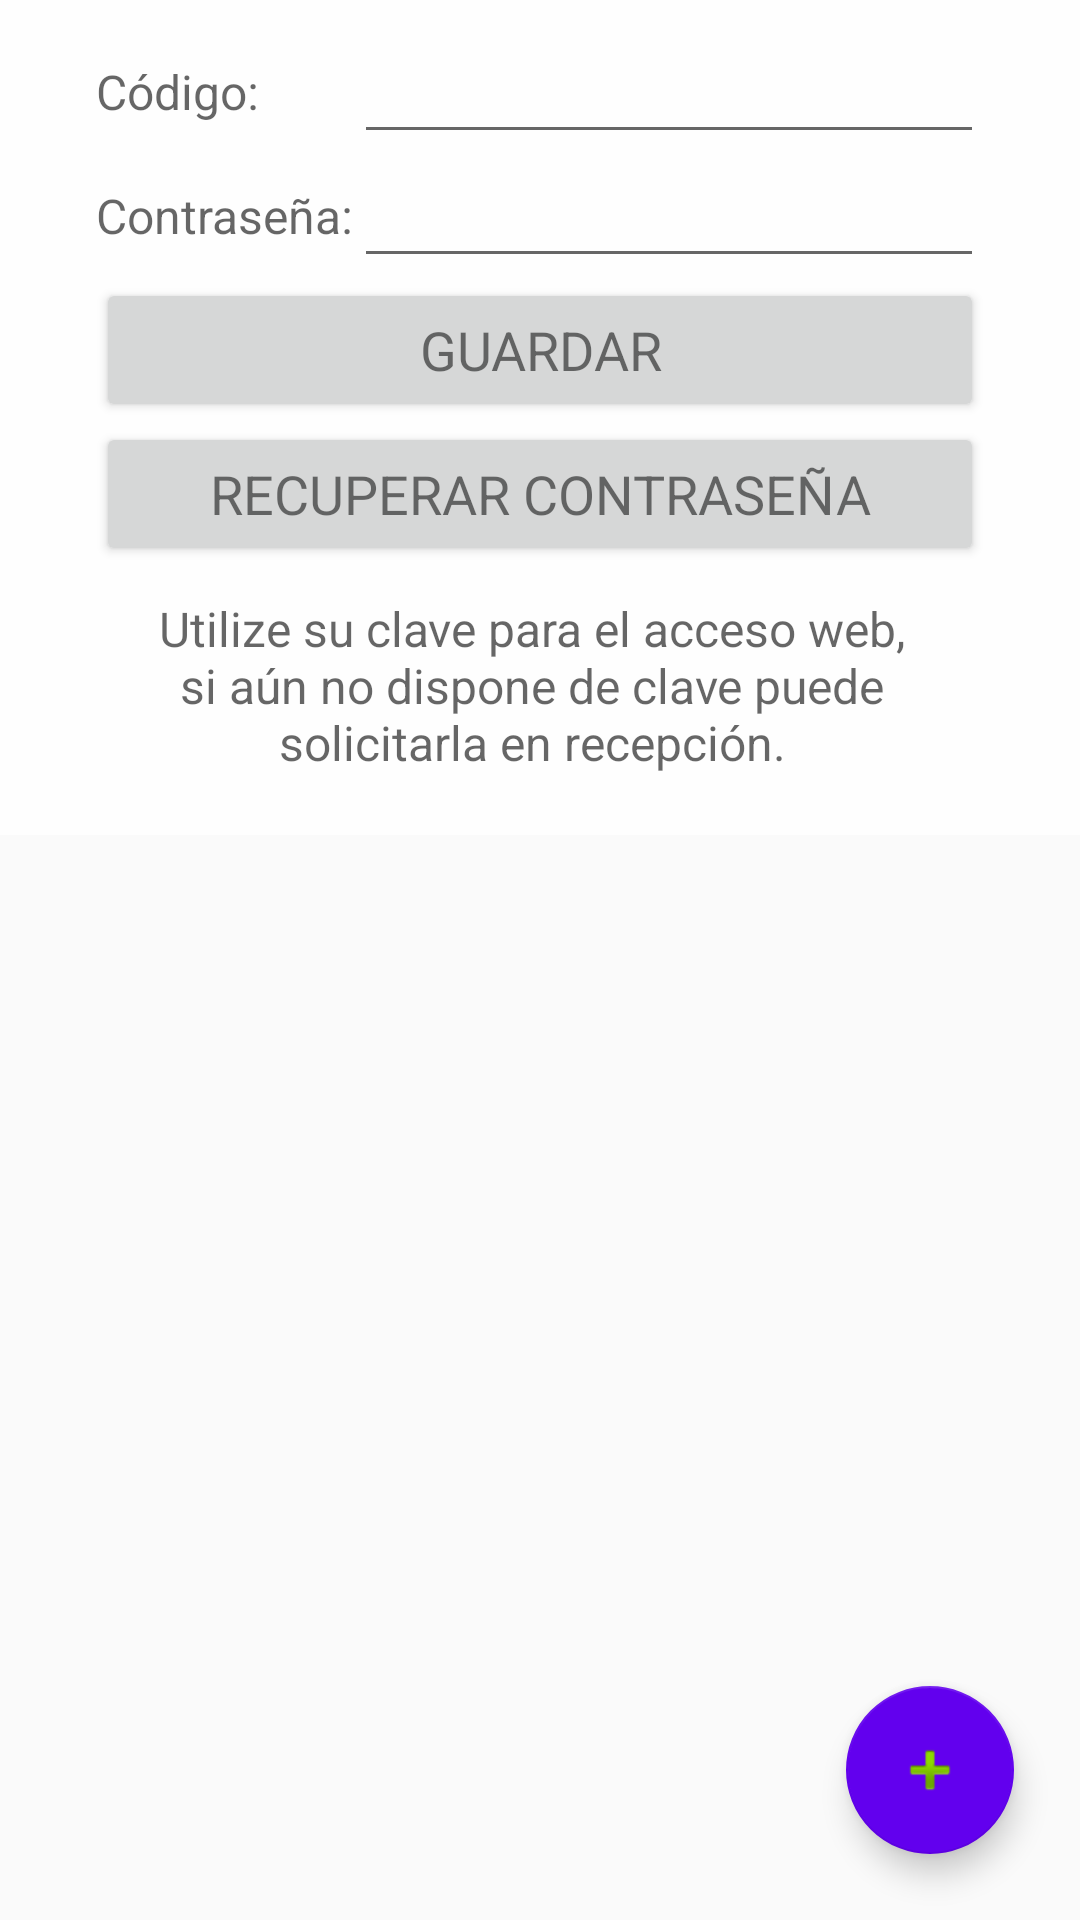

Screen size 1080 × 1920. Icon name, then its center in pixels as (x,y):
add: (930,1770)
